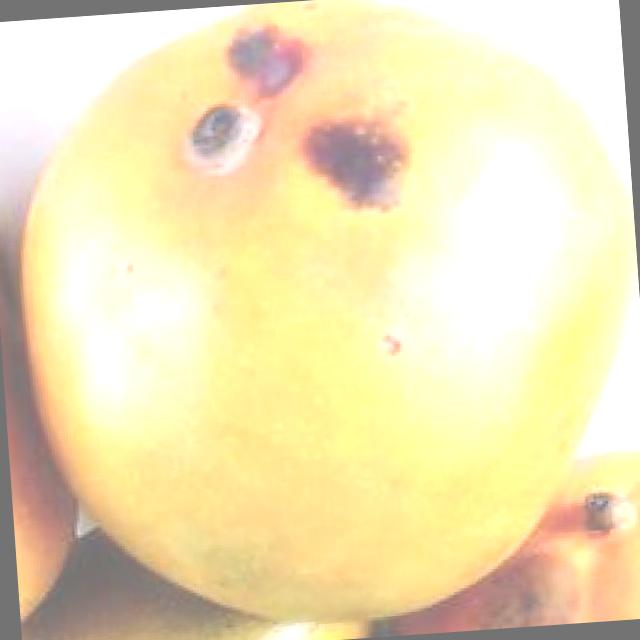Mango: (0, 0, 640, 640), (362, 439, 640, 637), (14, 504, 374, 640), (0, 260, 88, 625)
